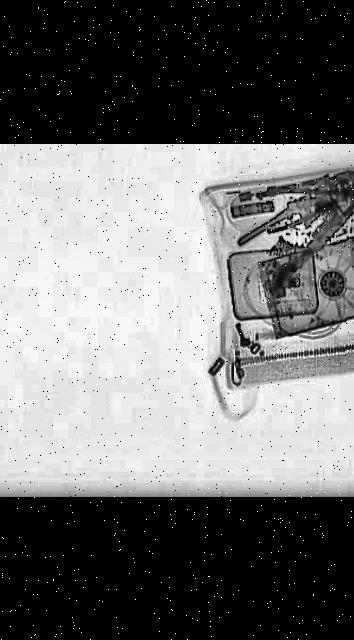Pliers: (216, 162, 354, 284)
